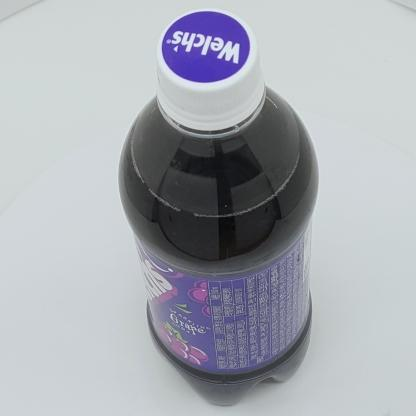-------500ml: (117, 7, 320, 407)
